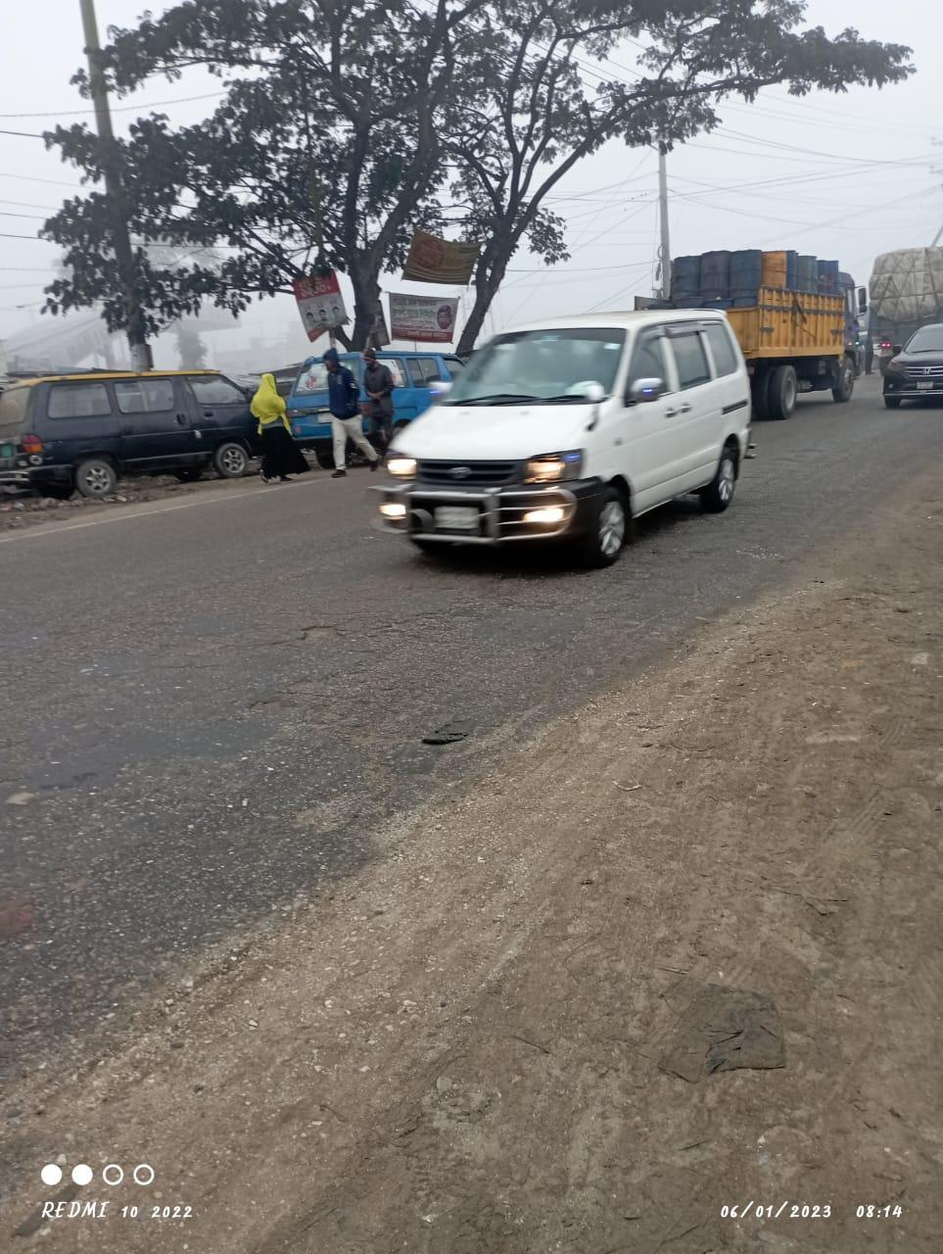Car: (373, 298, 765, 556), (8, 364, 263, 487), (290, 336, 459, 447), (873, 324, 943, 418)
Truck: (672, 246, 870, 404)
